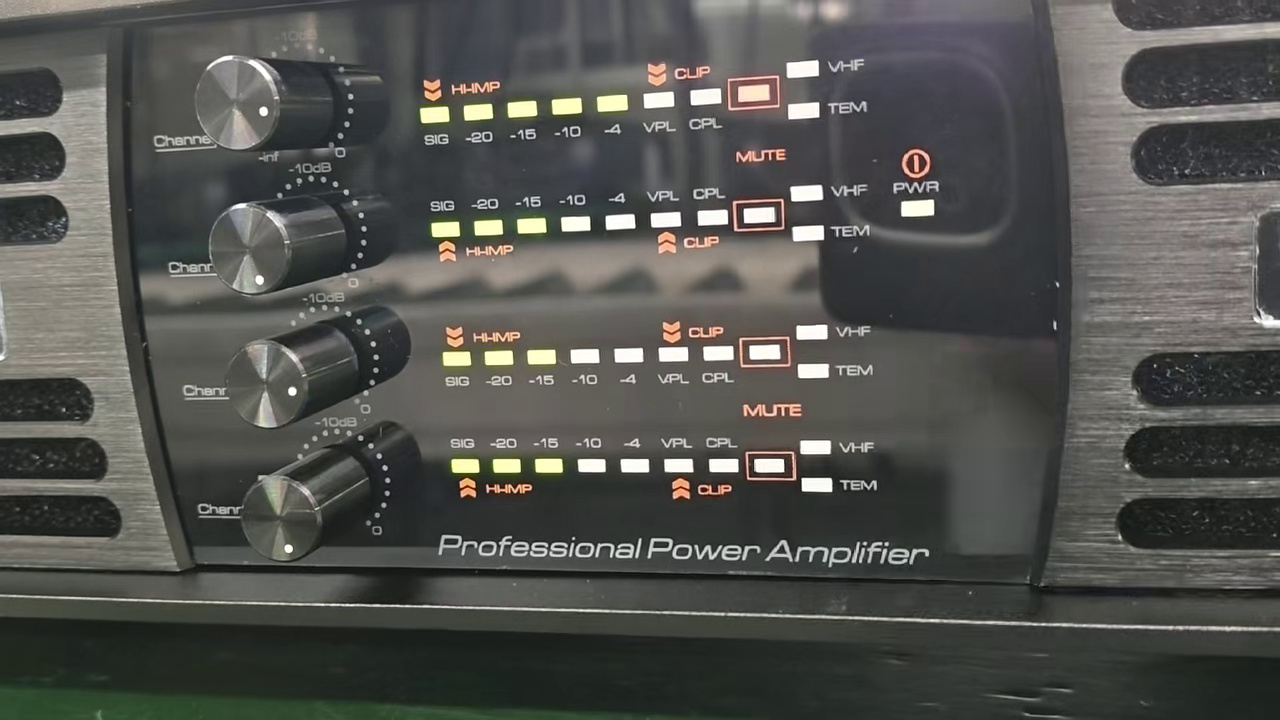FP_CPL: (686, 84, 730, 139), (701, 429, 741, 481), (697, 339, 738, 389), (690, 184, 730, 230)
FP_PWR: (890, 176, 942, 224)
FP_PWR_area: (887, 140, 944, 232)
FP_SIG_area: (413, 44, 872, 149), (429, 173, 871, 266), (443, 427, 885, 506), (436, 314, 881, 389)
FP_VPL: (639, 87, 682, 139), (645, 183, 686, 232), (660, 429, 699, 480), (654, 343, 693, 390)
